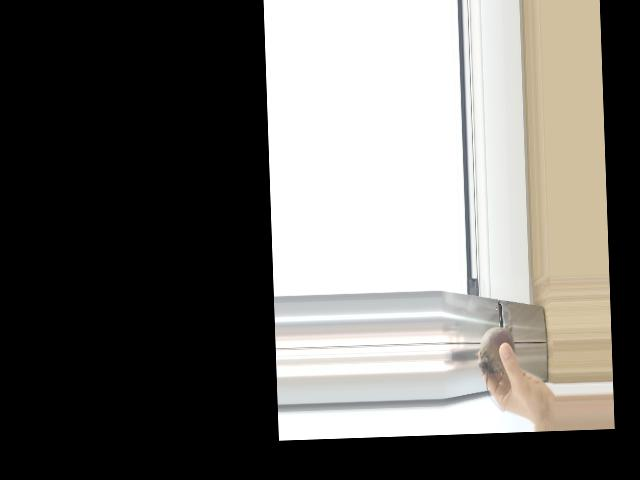beet: (477, 318, 517, 412)
